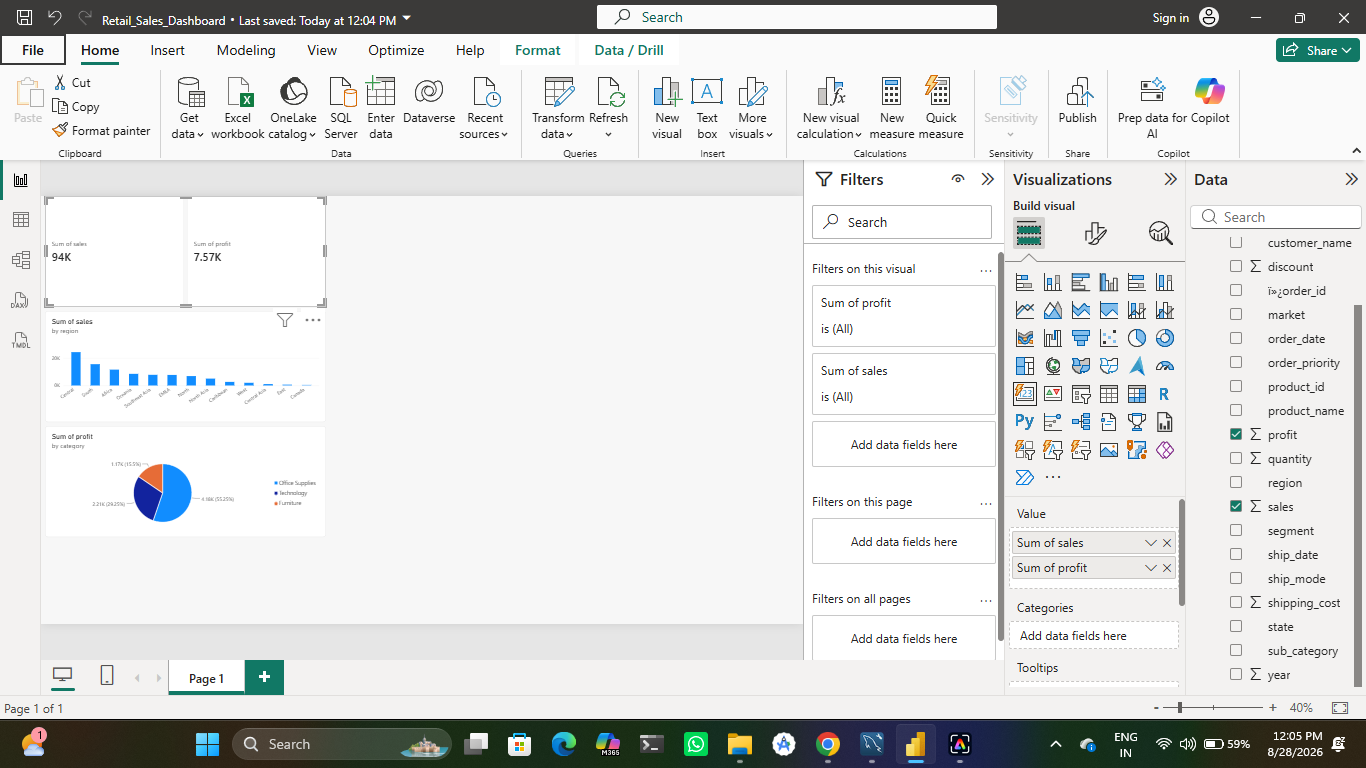

What the dashboard file says about the page in this screenshot:
{"tool":"powerbi","page":{"name":"Page 1","canvas":[1920,1080],"ordinal":0},"visuals":[{"type":"cardVisual","fields":{"Data":["Sum(retail_project superstoreorders.sales)","Sum(retail_project superstoreorders.profit)"]},"box":[10.1,0,708,279.7],"z":0},{"type":"columnChart","fields":{"Category":["retail_project superstoreorders.region"],"Y":["Sum(retail_project superstoreorders.sales)"]},"box":[10.1,289.8,708,279.7],"z":1},{"type":"pieChart","fields":{"Category":["retail_project superstoreorders.category"],"Y":["Sum(retail_project superstoreorders.profit)"]},"box":[10.1,579.5,708,279.7],"z":2}]}

Visuals, with their boxes on the page's 1920x1080 design canvas (x1, y1, x2, y2). These are canvas units, not pixel positions in the 1366x768 screenshot, which may show the page scaled, cropped or inside an application window:
cardVisual - Sum(retail_project superstoreorders.sales) x Sum(retail_project superstoreorders.profit): 10, 0, 718, 280
columnChart - retail_project superstoreorders.region x Sum(retail_project superstoreorders.sales): 10, 290, 718, 570
pieChart - retail_project superstoreorders.category x Sum(retail_project superstoreorders.profit): 10, 580, 718, 859
